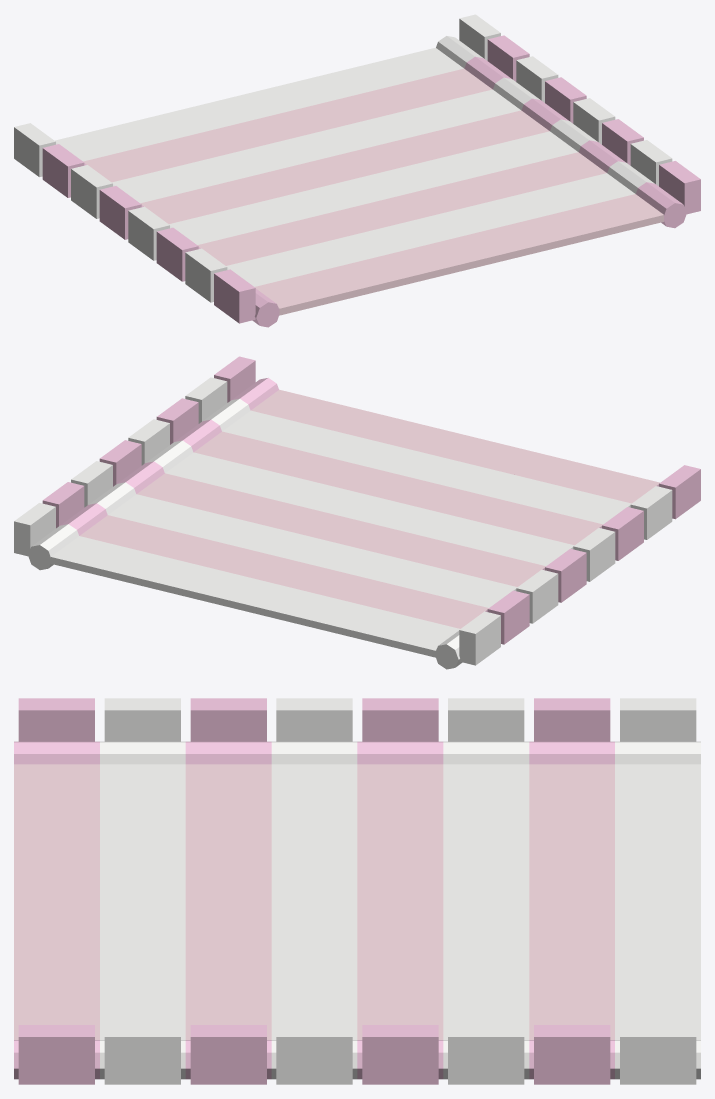
The model's file is draha_rovna.glb.
3 views of the same model, one above another, from view 1: azimuth 30°, elevation 25°; view 2: azimuth 150°, elevation 25°; view 3: azimuth 270°, elevation 25° (orthographic). The views are drawn at different scales.
Visible parts, largest first — view 1: DrahaRovna_white, DrahaRovna_pink, DrahaRovna_lol; view 2: DrahaRovna_white, DrahaRovna_pink, DrahaRovna_lol; view 3: DrahaRovna_white, DrahaRovna_pink, DrahaRovna_lol.
Part boxes in pixels (x1=…): DrahaRovna_white: x1=14, y1=14, x2=672, y2=302; DrahaRovna_pink: x1=83, y1=68, x2=663, y2=315; DrahaRovna_lol: x1=42, y1=35, x2=700, y2=327; DrahaRovna_white: x1=14, y1=377, x2=672, y2=669; DrahaRovna_pink: x1=80, y1=389, x2=659, y2=628; DrahaRovna_lol: x1=42, y1=356, x2=700, y2=644; DrahaRovna_white: x1=100, y1=698, x2=700, y2=1084; DrahaRovna_pink: x1=14, y1=764, x2=614, y2=1039; DrahaRovna_lol: x1=14, y1=698, x2=614, y2=1084.
Size of the model in its own units: 8.4 by 0.715 by 7.2.
